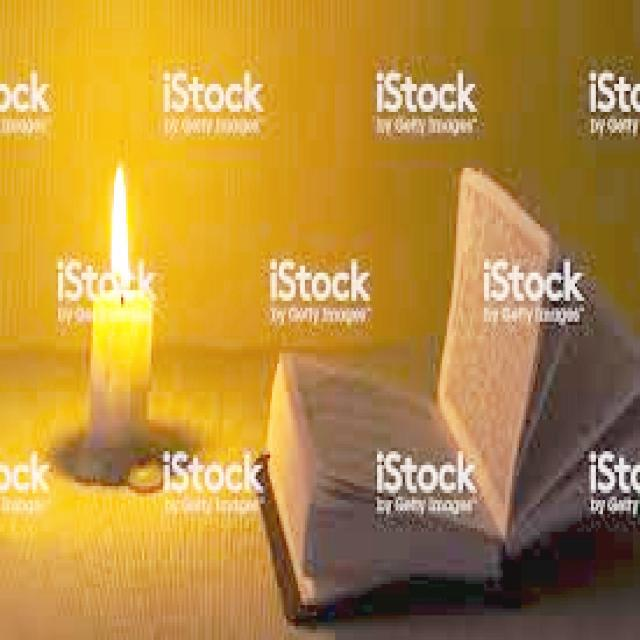api: (106, 159, 141, 292)
